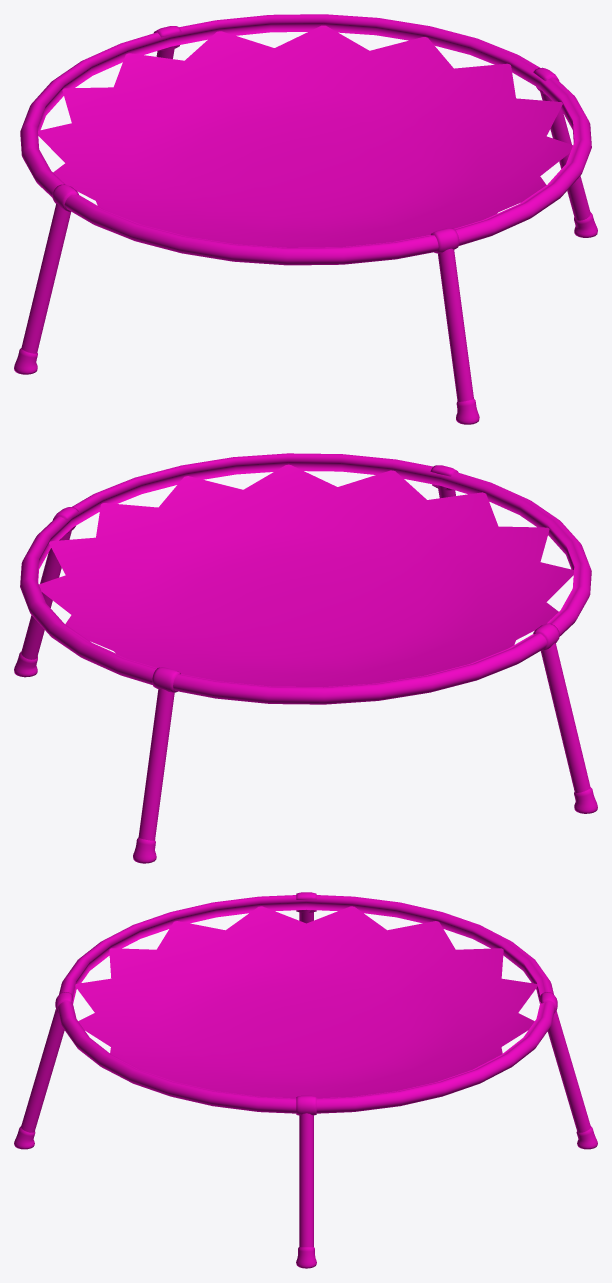
File: Butut.fbx
3 views of the same model, one above another, from view 1: azimuth 30°, elevation 25°; view 2: azimuth 150°, elevation 25°; view 3: azimuth 270°, elevation 25° (orthographic). The views are drawn at different scales.
Visible parts, largest first — view 1: Batut; view 2: Batut; view 3: Batut.
Boxes of the visible parts, box(x1,y1,x2,y2) form: Batut: box(14, 14, 597, 424); Batut: box(14, 453, 597, 863); Batut: box(14, 892, 597, 1268).
Size of the model in its own units: 1148 by 325 by 1147.
